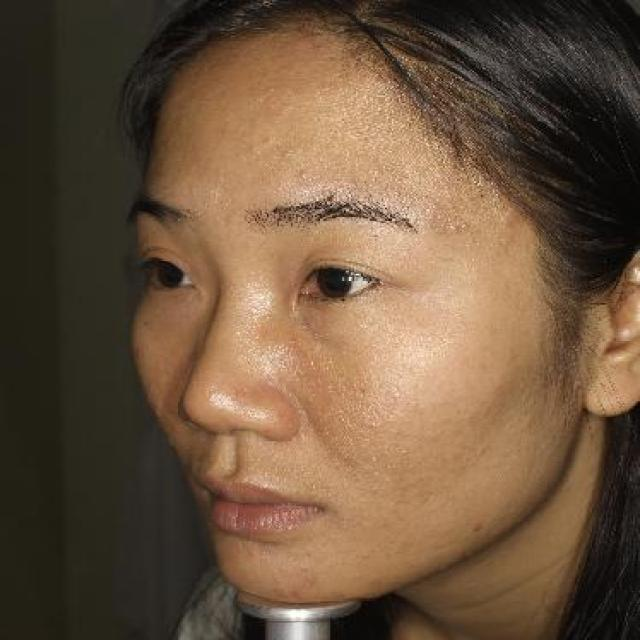whiteheads: (445, 217, 472, 235), (293, 166, 313, 182), (352, 318, 374, 331), (291, 558, 311, 572), (270, 588, 291, 598), (335, 555, 349, 568), (277, 560, 288, 575), (361, 548, 371, 560)
